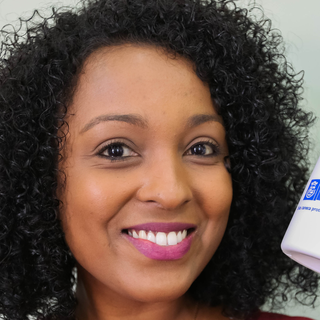eye: (88, 135, 142, 165), (178, 133, 223, 164)
